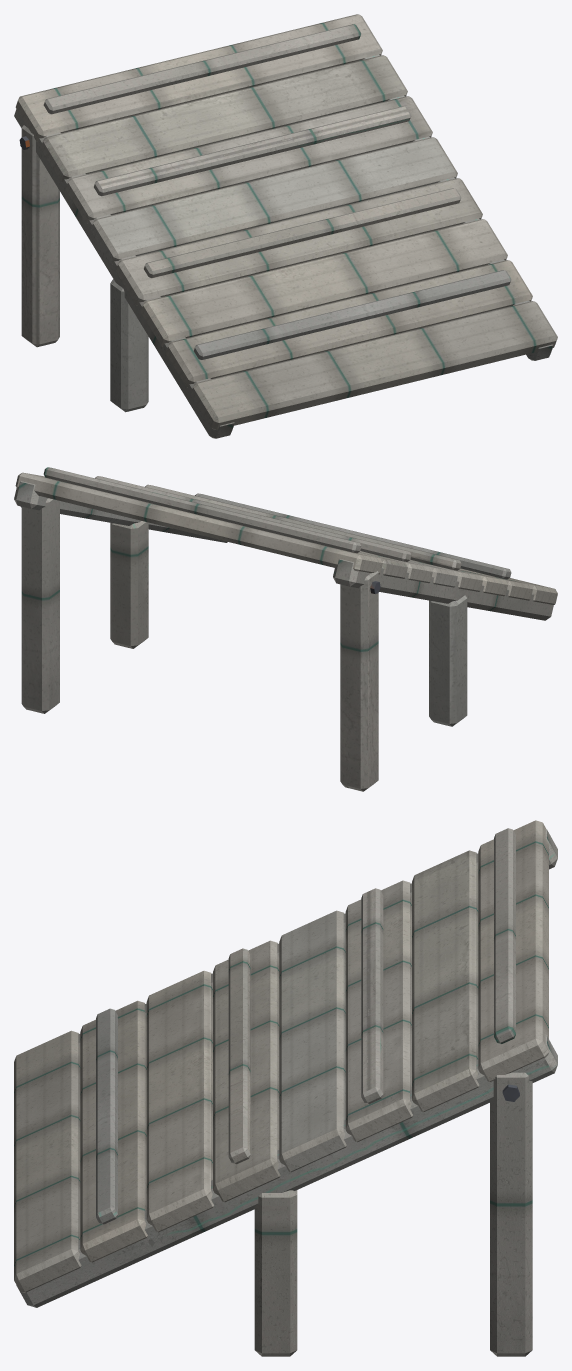
Rendered from rampa.glb.
3 views of the same model, one above another, from view 1: azimuth 30°, elevation 25°; view 2: azimuth 150°, elevation 25°; view 3: azimuth 270°, elevation 25° (orthographic). The views are drawn at different scales.
Parts seen in each view (by area): view 1: rampa; view 2: rampa; view 3: rampa.
Part boxes in pixels (x1,y1,x2,y2): rampa: (14, 14, 557, 438); rampa: (14, 467, 557, 791); rampa: (14, 820, 557, 1356).
Bounding box in the file's own units: 3.07 × 2 × 3.08.
1 material, 1 textured.
